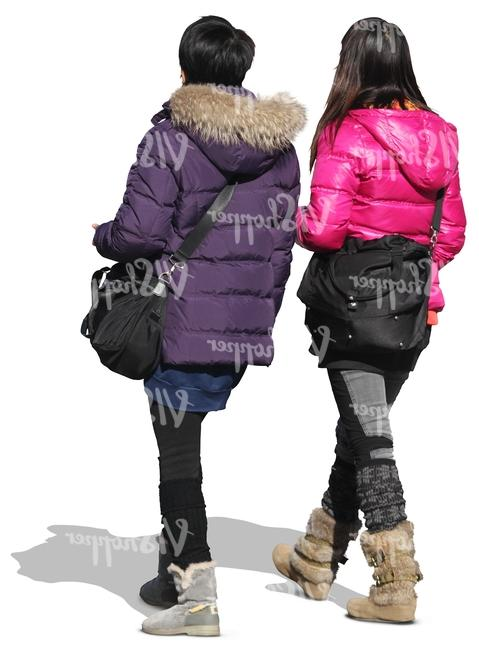coat: (91, 80, 311, 370), (293, 99, 468, 321)
trousers: (308, 311, 443, 531), (149, 396, 212, 577)
